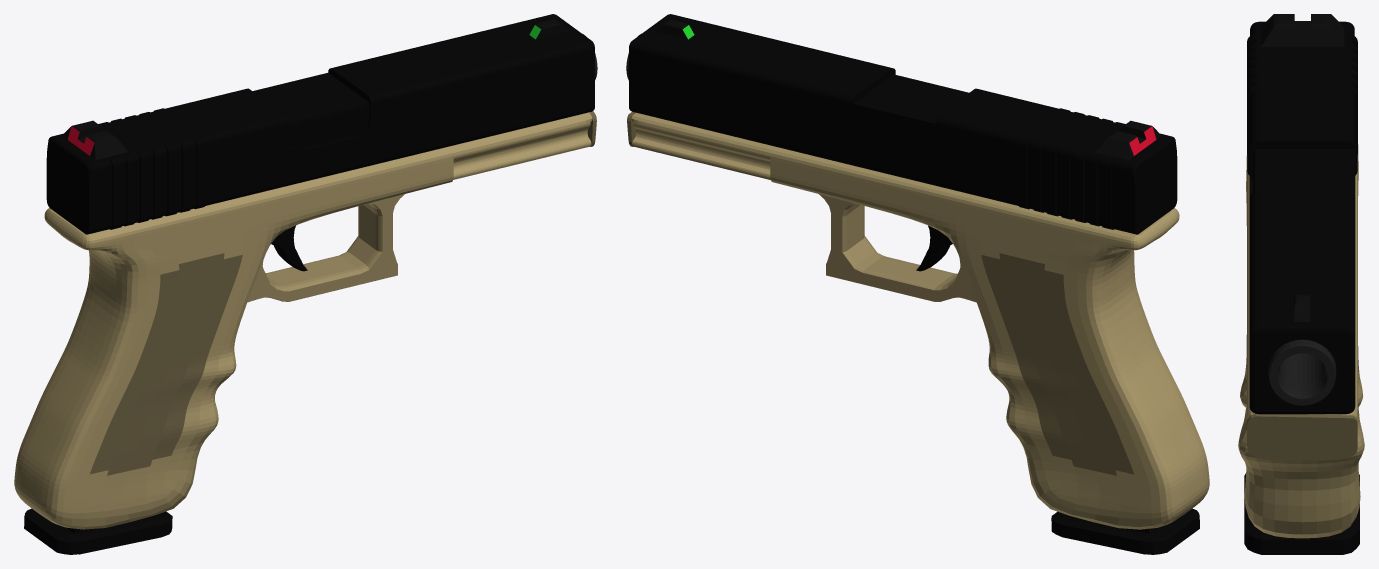
Rendered from Glock.fbx.
3 renders of one model, left to right at view 1: azimuth 30°, elevation 25°; view 2: azimuth 150°, elevation 25°; view 3: azimuth 270°, elevation 25°, orthographic. The views are drawn at different scales.
Parts seen in each view (by area): view 1: bottom, top, idk, magazine, rear sight, trigger; view 2: bottom, top, idk, magazine, rear sight, trigger; view 3: top, bottom, barrel, magazine, rear sight, front sight.
Boxes of the visible parts, x1=… form: bottom: x1=14, y1=111, x2=596, y2=529; top: x1=46, y1=14, x2=594, y2=234; idk: x1=247, y1=194, x2=404, y2=302; magazine: x1=24, y1=508, x2=172, y2=554; rear sight: x1=62, y1=120, x2=127, y2=159; trigger: x1=271, y1=225, x2=307, y2=271; bottom: x1=627, y1=111, x2=1209, y2=529; top: x1=629, y1=14, x2=1177, y2=234; idk: x1=819, y1=194, x2=976, y2=302; magazine: x1=1051, y1=508, x2=1199, y2=554; rear sight: x1=1095, y1=120, x2=1161, y2=160; trigger: x1=916, y1=225, x2=952, y2=271; top: x1=1247, y1=21, x2=1357, y2=414; bottom: x1=1238, y1=144, x2=1364, y2=538; barrel: x1=1268, y1=339, x2=1336, y2=405; magazine: x1=1244, y1=473, x2=1359, y2=554; rear sight: x1=1261, y1=14, x2=1344, y2=46; front sight: x1=1294, y1=294, x2=1310, y2=321.
Size of the model in its own units: 227 by 158 by 36.14.
